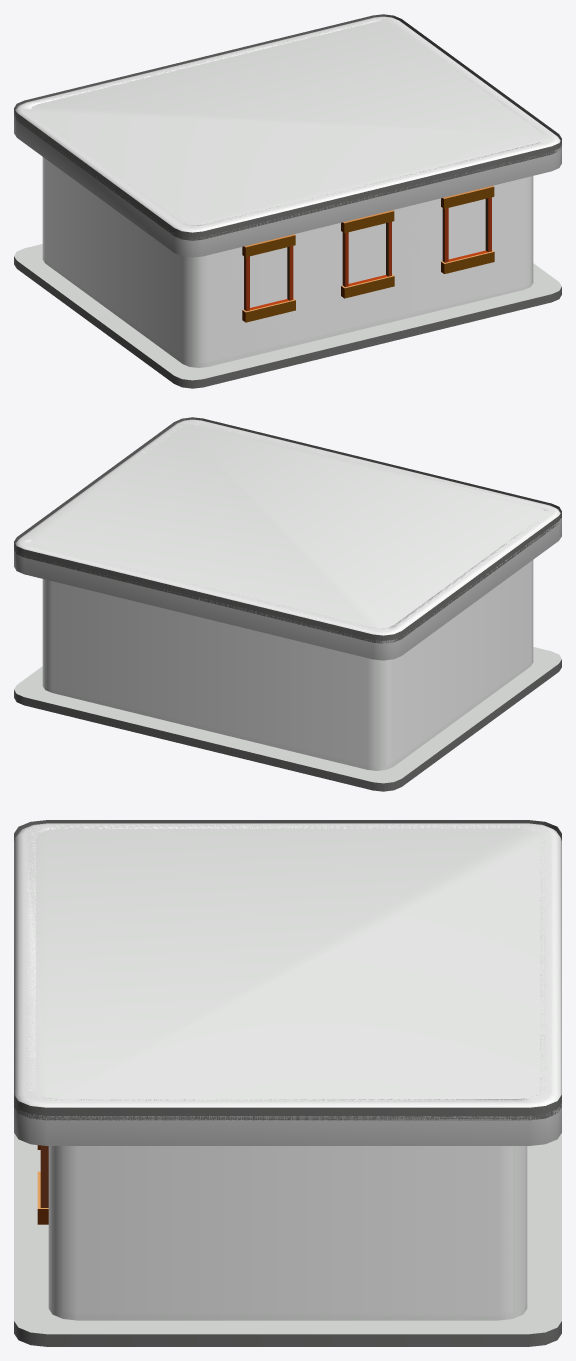
The model's file is humanchain_building_old.fbx.
3 views of the same model, one above another, from view 1: azimuth 30°, elevation 25°; view 2: azimuth 150°, elevation 25°; view 3: azimuth 270°, elevation 25° (orthographic). The views are drawn at different scales.
Parts seen in each view (by area): view 1: humanchain_building_windowed_roof, humanchain_building_windowed, humanchain_building_forglass, humanchain_building_forglass_roof; view 2: humanchain_building_windowed_roof, humanchain_building_windowed, humanchain_building_forglass_roof, humanchain_building_forglass; view 3: humanchain_building_windowed_roof, humanchain_building_windowed, humanchain_building_forglass_roof, humanchain_building_forglass.
Boxes of the visible parts, bbox=[...] form: humanchain_building_windowed_roof: bbox=[14, 16, 561, 387]; humanchain_building_windowed: bbox=[14, 14, 561, 388]; humanchain_building_forglass: bbox=[42, 157, 533, 367]; humanchain_building_forglass_roof: bbox=[21, 17, 554, 366]; humanchain_building_windowed_roof: bbox=[14, 419, 561, 791]; humanchain_building_windowed: bbox=[14, 417, 561, 791]; humanchain_building_forglass_roof: bbox=[21, 421, 554, 768]; humanchain_building_forglass: bbox=[42, 569, 533, 770]; humanchain_building_windowed_roof: bbox=[14, 823, 561, 1346]; humanchain_building_windowed: bbox=[14, 820, 561, 1346]; humanchain_building_forglass_roof: bbox=[24, 824, 551, 1319]; humanchain_building_forglass: bbox=[48, 1146, 527, 1319].
Size of the model in its own units: 10.96 by 4.25 by 8.83.
